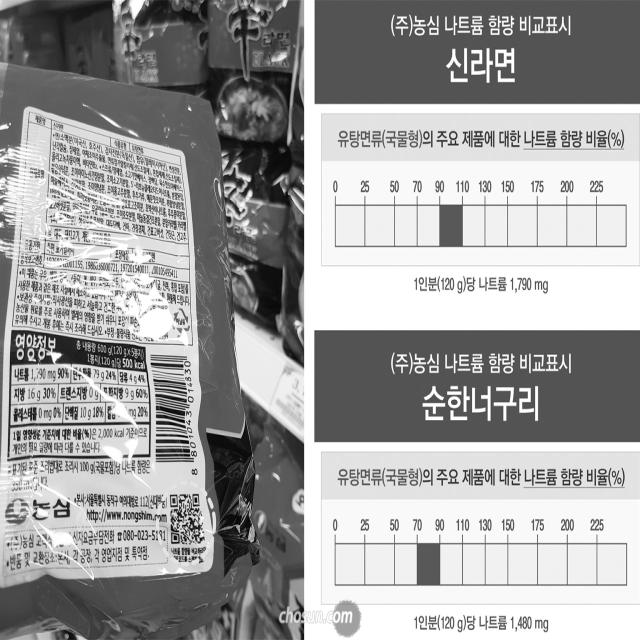Nutrition Label: (7, 322, 153, 471)
